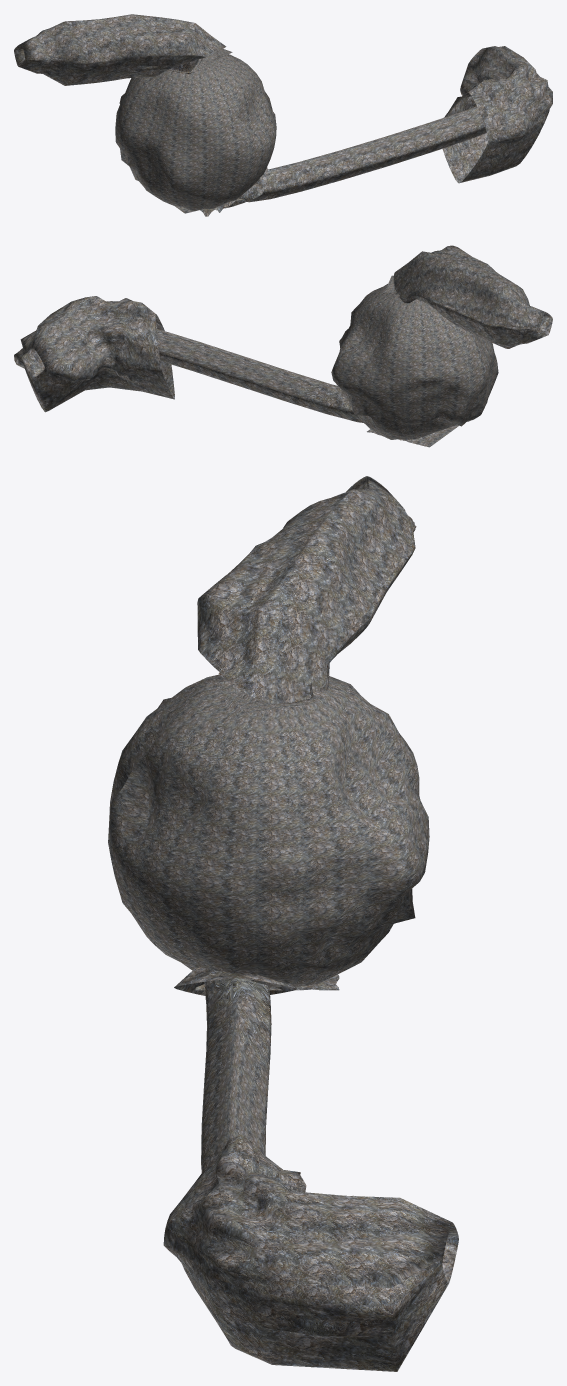
The model's file is Cueva01.FBX.
The picture shows the model from 3 angles, top to bottom: view 1: azimuth 30°, elevation 25°; view 2: azimuth 150°, elevation 25°; view 3: azimuth 270°, elevation 25°; orthographic projection. The views are drawn at different scales.
Visible parts, largest first — view 1: CuevaCavidad; view 2: CuevaCavidad; view 3: CuevaCavidad.
Boxes of the visible parts, bbox=[...] form: CuevaCavidad: bbox=[14, 14, 552, 216]; CuevaCavidad: bbox=[14, 245, 552, 447]; CuevaCavidad: bbox=[108, 476, 458, 1371].
Size of the model in its own units: 667 by 279 by 195.
Materials: 1 (1 with a texture image).
